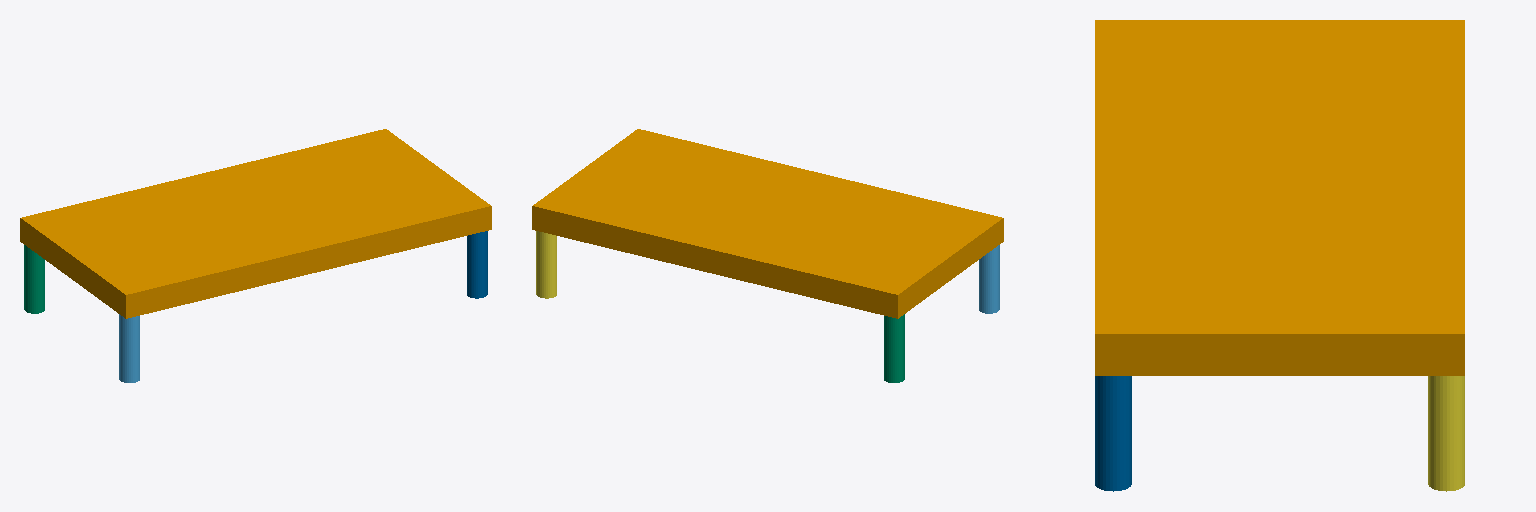
The robot description file, URDF, robot "table":
<?xml version="1.0"?>
<robot name="table">

  <link name="table_top_link">
    <inertial>
      <mass value="1.0" />
      <origin xyz="0 0 0" />
      <inertia ixx="1" ixy="0"  ixz="0"
               iyy="1" iyz="0"
               izz="1" />
    </inertial> 
    <visual>
      <origin xyz="0 0 0" />
      <geometry>
        <box size="4.0 2.0 0.25" />
      </geometry>
    </visual> 
    <collision>
      <origin xyz="0 0 0" />
      <geometry>
        <box size="4.0 2.0 0.25" />
      </geometry>
    </collision>
  </link>
  <gazebo reference="table_top_link">
    <material>Gazebo/Wood</material>
    <mu1>50.0</mu1>
    <mu2>50.0</mu2>
    <kp>1000000.0</kp>
    <kd>1.0</kd>
  </gazebo>

  <joint name="leg1_joint" type="fixed" >
    <parent link="table_top_link" />
    <origin xyz="-1.9 -0.9 -0.45" rpy="0 0 0" />
    <child link="leg1_link" />
  </joint> 
  <link name="leg1_link">
    <inertial>
      <mass value="1.0" />
      <origin xyz="0 0 0" />
      <inertia ixx="0.1" ixy="0"  ixz="0"
               iyy="0.1" iyz="0"
               izz="0.01" />
    </inertial> 
    <visual>
      <origin xyz="0.0 0.0 0.0" rpy="0 0 0" />
      <geometry>
        <cylinder radius="0.1" length="0.73" />
      </geometry>
    </visual> 
    <collision>
      <origin xyz="0.0 0.0 0.0" rpy="0.0 0.0 0.0" />
      <geometry>
        <cylinder radius="0.1" length="0.73" />
      </geometry>
    </collision>
  </link>
  <gazebo reference="leg1_link">
    <material>Gazebo/Grey</material>
    <mu1>1000.0</mu1>
    <mu2>1000.0</mu2>
    <kp>10000000.0</kp>
    <kd>1.0</kd>
    <selfCollide>true</selfCollide>
  </gazebo>

  <joint name="leg2_joint" type="fixed" >
    <parent link="table_top_link" />
    <origin xyz="-1.9 0.9 -0.45" rpy="0 0 0" />
    <child link="leg2_link" />
  </joint> 
  <link name="leg2_link">
    <inertial>
      <mass value="1.0" />
      <origin xyz="0 0 0" />
      <inertia ixx="0.1" ixy="0"  ixz="0"
               iyy="0.1" iyz="0"
               izz="0.01" />
    </inertial> 
    <visual>
      <origin xyz="0.0 0.0 0.0" rpy="0 0 0" />
      <geometry>
        <cylinder radius="0.1" length="0.73" />
      </geometry>
    </visual> 
    <collision>
      <origin xyz="0.0 0.0 0.0" rpy="0.0 0.0 0.0" />
      <geometry>
        <cylinder radius="0.1" length="0.73" />
      </geometry>
    </collision>
  </link>
  <gazebo reference="leg2_link">
    <material>Gazebo/Grey</material>
    <mu1>1000.0</mu1>
    <mu2>1000.0</mu2>
    <kp>10000000.0</kp>
    <kd>1.0</kd>
    <selfCollide>true</selfCollide>
  </gazebo>

  <joint name="leg3_joint" type="fixed" >
    <parent link="table_top_link" />
    <origin xyz="1.9 0.9 -0.45" rpy="0 0 0" />
    <child link="leg3_link" />
  </joint> 
  <link name="leg3_link">
    <inertial>
      <mass value="1.0" />
      <origin xyz="0 0 0" />
      <inertia ixx="0.1" ixy="0"  ixz="0"
               iyy="0.1" iyz="0"
               izz="0.01" />
    </inertial> 
    <visual>
      <origin xyz="0.0 0.0 0.0" rpy="0 0 0" />
      <geometry>
        <cylinder radius="0.1" length="0.73" />
      </geometry>
    </visual> 
    <collision>
      <origin xyz="0.0 0.0 0.0" rpy="0.0 0.0 0.0" />
      <geometry>
        <cylinder radius="0.1" length="0.73" />
      </geometry>
    </collision>
  </link>
  <gazebo reference="leg3_link">
    <material>Gazebo/Grey</material>
    <mu1>1000.0</mu1>
    <mu2>1000.0</mu2>
    <kp>10000000.0</kp>
    <kd>1.0</kd>
    <selfCollide>true</selfCollide>
  </gazebo>

  <joint name="leg4_joint" type="fixed" >
    <parent link="table_top_link" />
    <origin xyz="1.9 -0.9 -0.45" rpy="0 0 0" />
    <child link="leg4_link" />
  </joint> 
  <link name="leg4_link">
    <inertial>
      <mass value="1.0" />
      <origin xyz="0 0 0" />
      <inertia ixx="0.1" ixy="0"  ixz="0"
               iyy="0.1" iyz="0"
               izz="0.01" />
    </inertial> 
    <visual>
      <origin xyz="0.0 0.0 0.0" rpy="0 0 0" />
      <geometry>
        <cylinder radius="0.1" length="0.73" />
      </geometry>
    </visual> 
    <collision>
      <origin xyz="0.0 0.0 0.0" rpy="0.0 0.0 0.0" />
      <geometry>
        <cylinder radius="0.1" length="0.73" />
      </geometry>
    </collision>
  </link>
  <gazebo reference="leg4_link">
    <material>Gazebo/Grey</material>
    <mu1>1000.0</mu1>
    <mu2>1000.0</mu2>
    <kp>10000000.0</kp>
    <kd>1.0</kd>
    <selfCollide>true</selfCollide>
  </gazebo>

</robot>

--- Facts derived from the render (not from the file) ---
3 views of the same robot in one strip: view 1: azimuth 30°, elevation 25°; view 2: azimuth 150°, elevation 25°; view 3: azimuth 270°, elevation 25° (orthographic).
Robot: table — 5 links, 4 joints (4 fixed); root link table_top_link; default pose: every joint at zero.
Visible links, largest first — view 1: table_top_link, leg1_link, leg4_link, leg2_link; view 2: table_top_link, leg2_link, leg3_link, leg1_link; view 3: table_top_link, leg3_link, leg4_link.
Boxes of the visible links, x1,y1,x2,y2 form: table_top_link: [20, 129, 491, 318]; leg1_link: [119, 314, 139, 382]; leg4_link: [467, 231, 487, 298]; leg2_link: [24, 245, 44, 313]; table_top_link: [532, 129, 1003, 318]; leg2_link: [884, 314, 904, 382]; leg3_link: [536, 231, 556, 298]; leg1_link: [979, 245, 999, 313]; table_top_link: [1095, 20, 1464, 375]; leg3_link: [1428, 376, 1464, 491]; leg4_link: [1095, 376, 1131, 491].
Bounding box of the posed robot: 4 × 2 × 0.94 m (x, y, z).
Geometry: primitives only (box / cylinder / sphere), no mesh files.